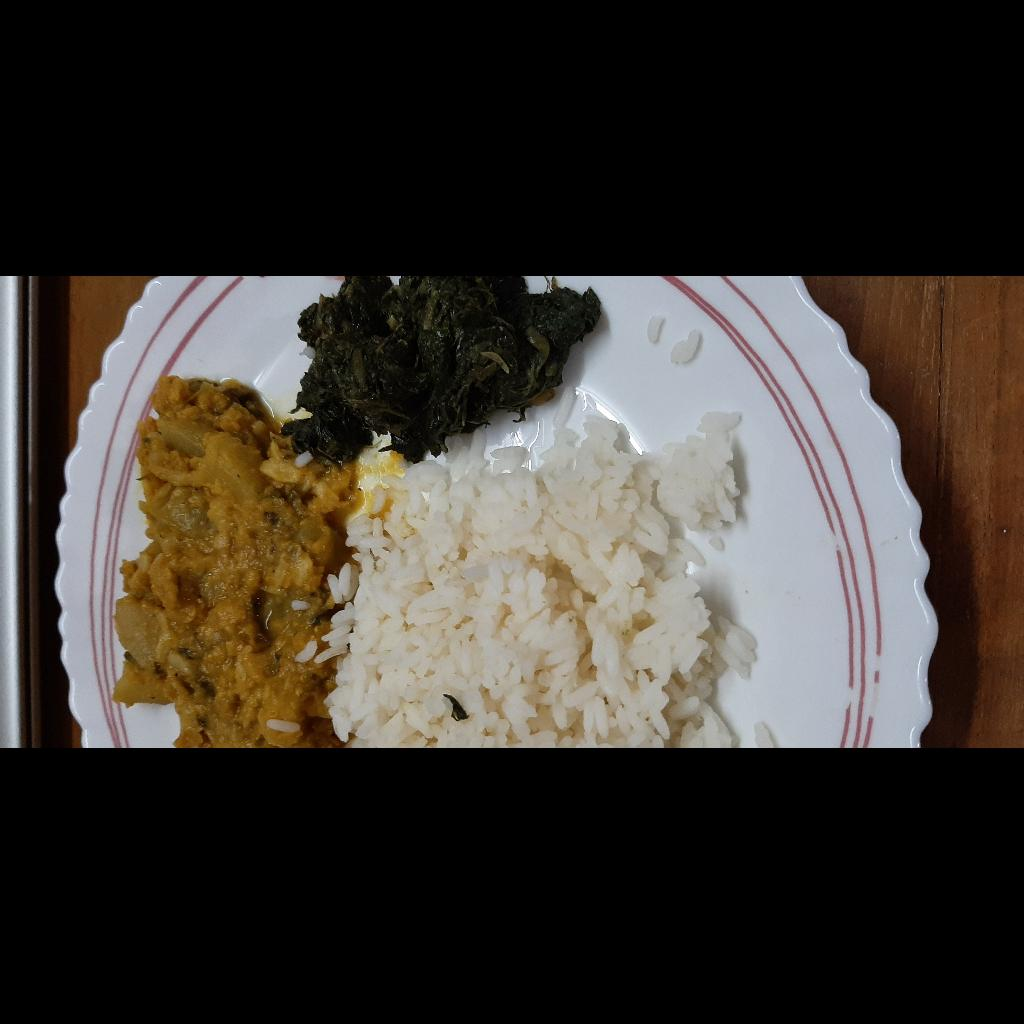rice: (0, 608, 355, 1024)
shak: (282, 560, 472, 870)
vegetable: (0, 389, 372, 627)
